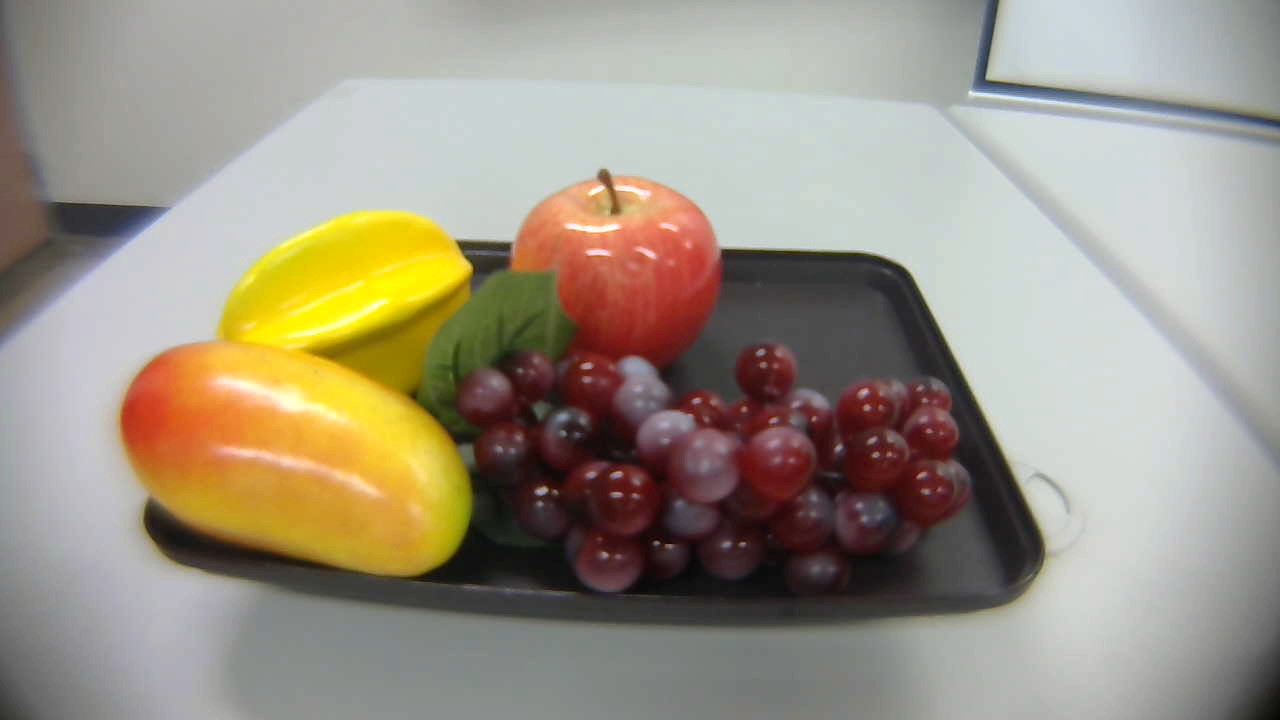grape: (420, 271, 985, 603)
red apple: (503, 163, 732, 384)
red mango: (115, 336, 500, 599)
star fruit: (208, 201, 483, 399)
